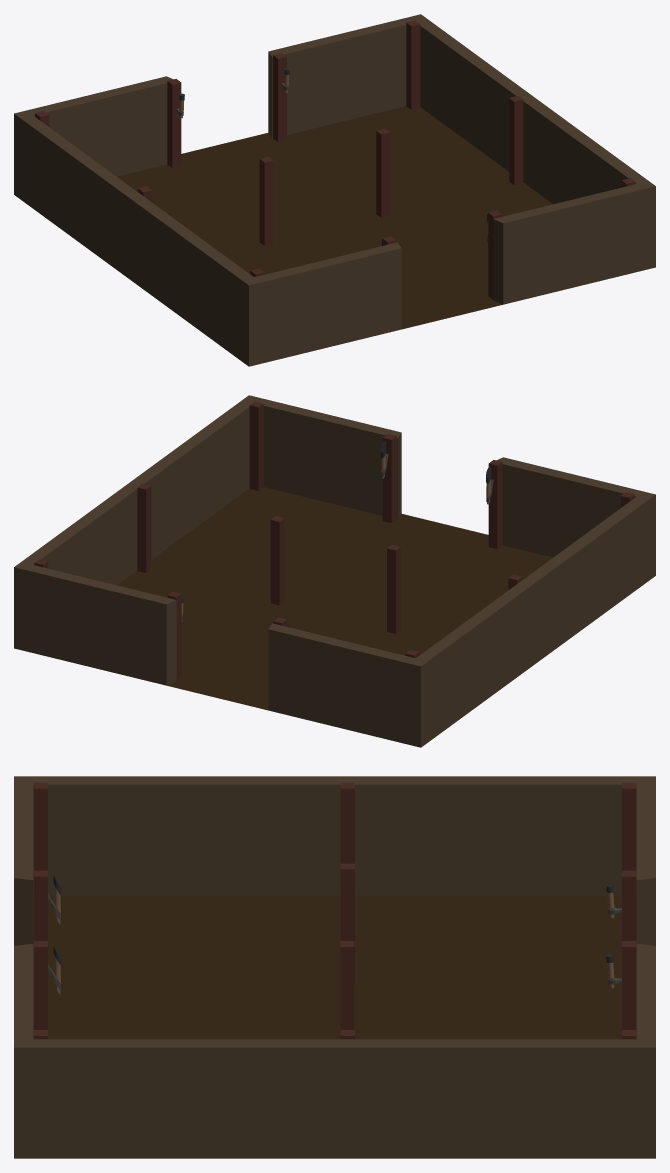
The model's file is RoomBaseLayout.fbx.
3 renders of one model, top to bottom at view 1: azimuth 30°, elevation 25°; view 2: azimuth 150°, elevation 25°; view 3: azimuth 270°, elevation 25°, orthographic. The views are drawn at different scales.
Visible parts, largest first — view 1: Room1.005, Support.075, Support.071, Support.073, Support.074, Support.067, Support.066, Support.064; view 2: Room1.005, Support.070, Support.073, Support.075, Support.074, Support.065, Support.064, Support.066; view 3: Room1.005, Support.075, Support.066, Support.069, Support.064, Support.068, Support.072, Support.074, Support.067, Support.065.
Part boxes in pixels (box(x1,y1,x2,y2)): Room1.005: box(14, 14, 655, 366); Support.075: box(376, 128, 390, 217); Support.071: box(406, 20, 420, 109); Support.073: box(509, 96, 523, 185); Support.074: box(259, 157, 273, 245); Support.067: box(167, 79, 181, 167); Support.066: box(273, 53, 286, 142); Support.064: box(488, 210, 502, 299); Room1.005: box(14, 395, 655, 747); Support.070: box(249, 401, 263, 490); Support.073: box(137, 483, 151, 572); Support.075: box(270, 516, 284, 605); Support.074: box(387, 544, 400, 633); Support.065: box(488, 460, 502, 549); Support.064: box(382, 434, 396, 523); Support.066: box(167, 591, 181, 680); Room1.005: box(14, 776, 655, 1158); Support.075: box(340, 941, 354, 1038); Support.066: box(622, 941, 636, 1029); Support.069: box(622, 782, 636, 870); Support.064: box(34, 941, 47, 1029); Support.068: box(34, 782, 47, 870); Support.072: box(340, 782, 354, 863); Support.074: box(340, 863, 354, 983); Support.067: box(622, 870, 636, 940); Support.065: box(34, 870, 47, 940).
Bounding box in the file's own units: 796 × 163 × 796.
